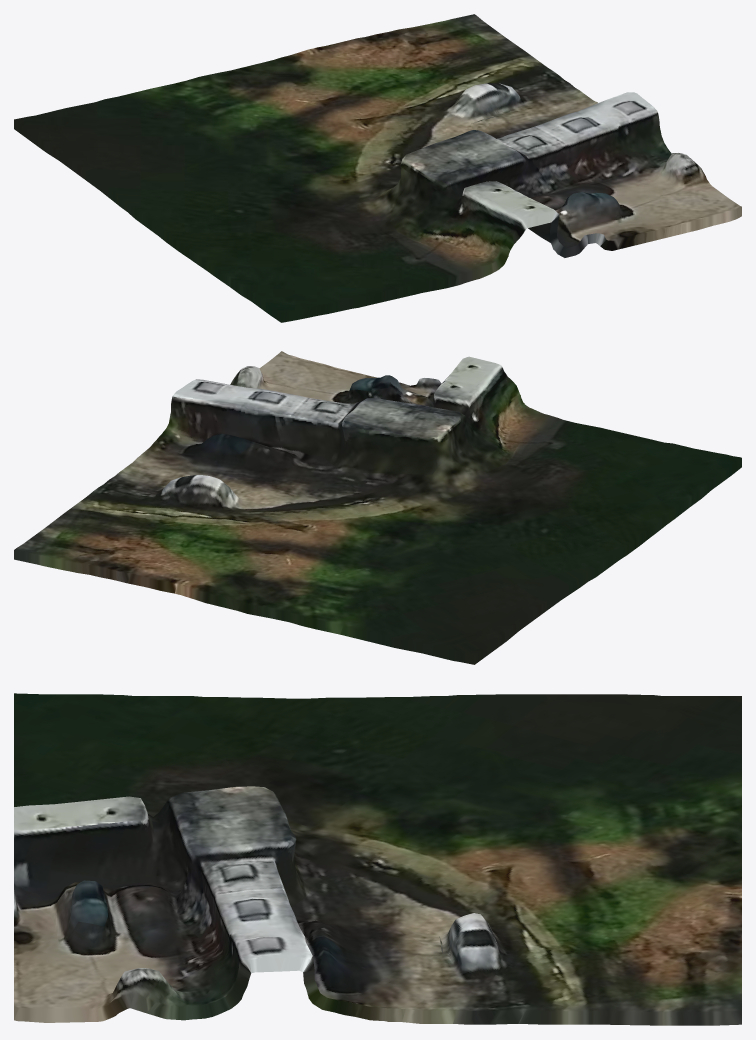
File: z20-167779-405218-h0-yup-uvflip-v3-world.glb
The picture shows the model from 3 angles, top to bottom: view 1: azimuth 30°, elevation 25°; view 2: azimuth 150°, elevation 25°; view 3: azimuth 270°, elevation 25°; orthographic projection. The views are drawn at different scales.
Size of the model in its own units: 30.16 by 3.52 by 30.32.
Materials: 1 (1 with a texture image).
